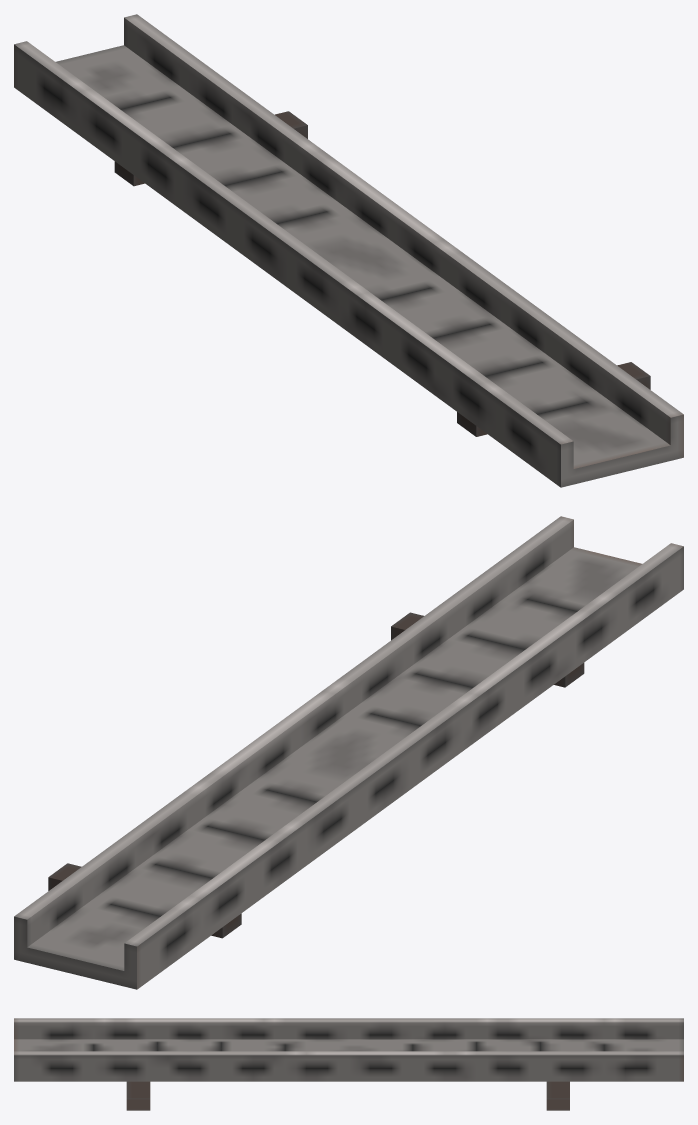
The model's file is obj_cableRail_1.fbx.
3 views of the same model, one above another, from view 1: azimuth 30°, elevation 25°; view 2: azimuth 150°, elevation 25°; view 3: azimuth 270°, elevation 25° (orthographic). The views are drawn at different scales.
Visible parts, largest first — view 1: obj_cableRail_1; view 2: obj_cableRail_1; view 3: obj_cableRail_1.
Boxes of the visible parts, x1,y1,x2,y2 form: obj_cableRail_1: (14,14,683,487); obj_cableRail_1: (14,516,683,989); obj_cableRail_1: (14,1018,683,1110).
Size of the model in its own units: 19.2 by 6.23 by 100.
